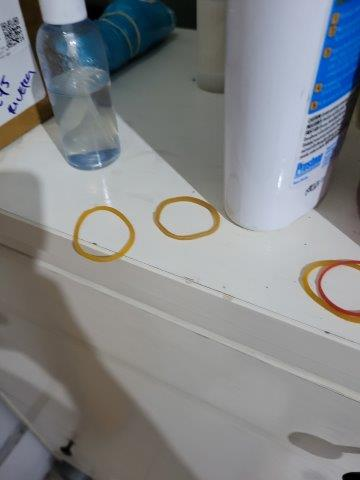karet: (298, 259, 360, 327), (70, 205, 136, 262), (152, 195, 221, 240), (317, 260, 360, 318)
